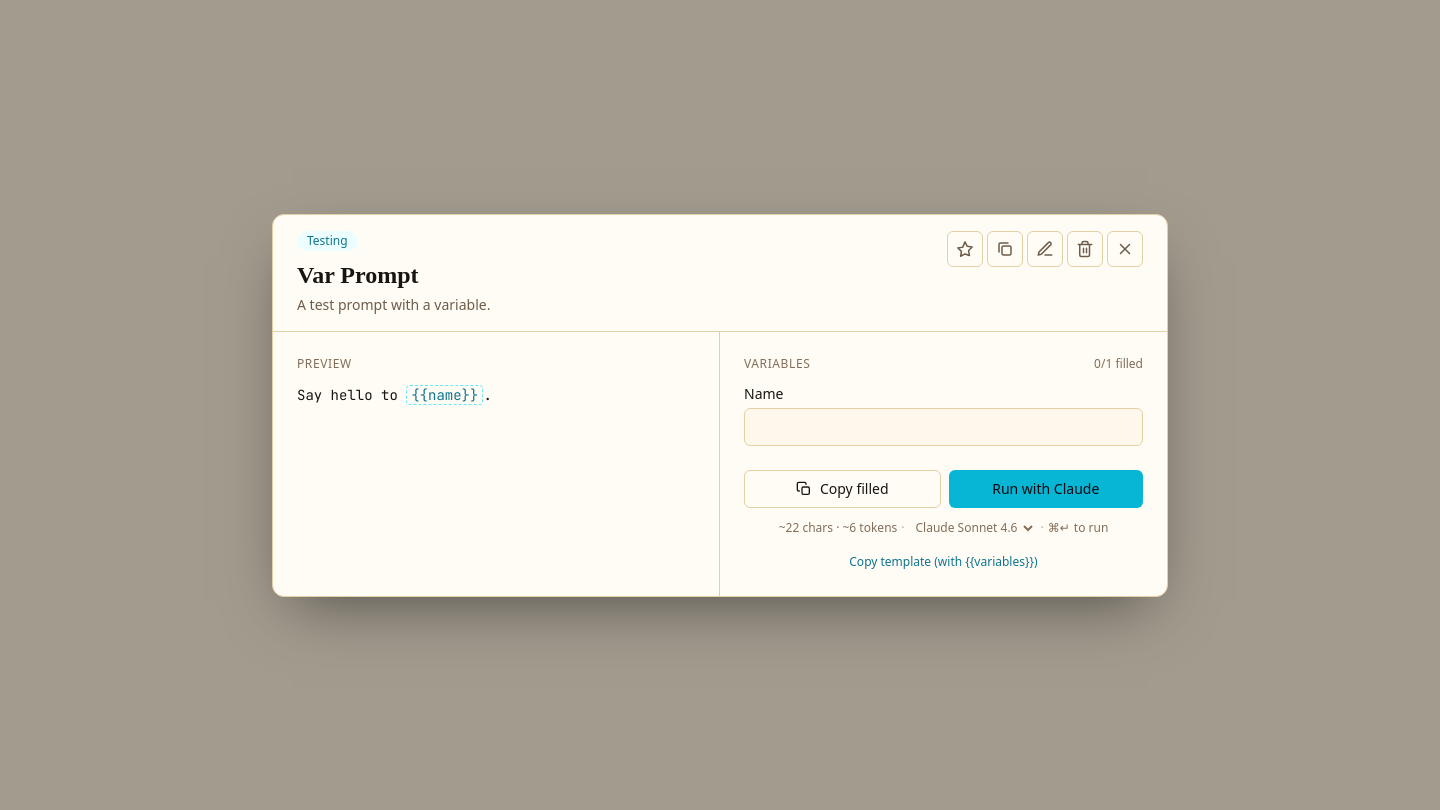
Test case: PromptDetail — F3c: unfilled variable soft warning › shows inline warning when a variable is empty and Run is clicked
The width and height of the screenshot is (1440, 810).
# Do NOT fill the variable — click Run immediately
Click the button "Run with Claude" at (1046, 488), box [948,470,1143,508]
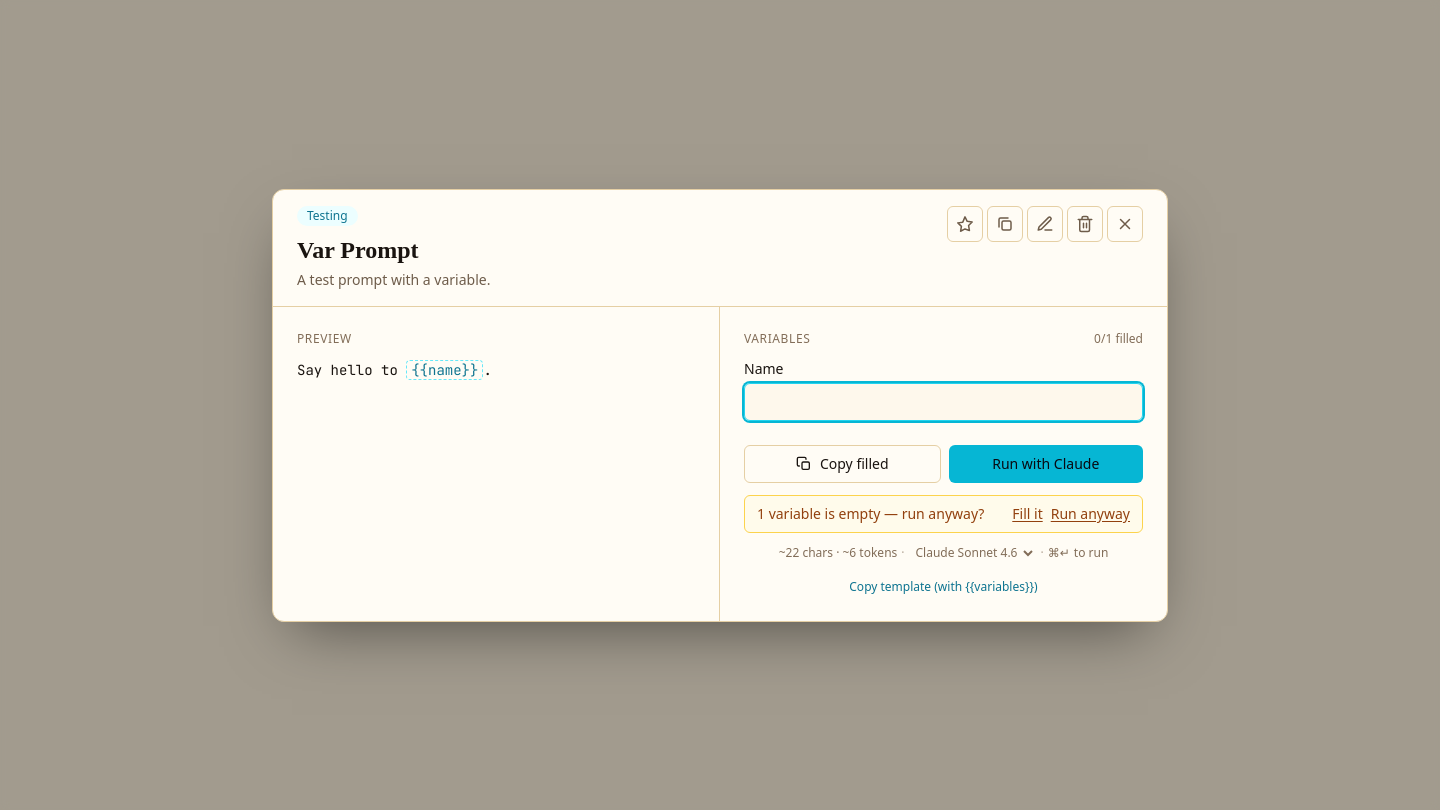
Expected: the message "1 variable is empty — run anyway? Fill it Run anyway" is shown, [744,494,1143,532]
Expected: the message shows "1 variable is empty — run anyway?", [757,504,984,522]
